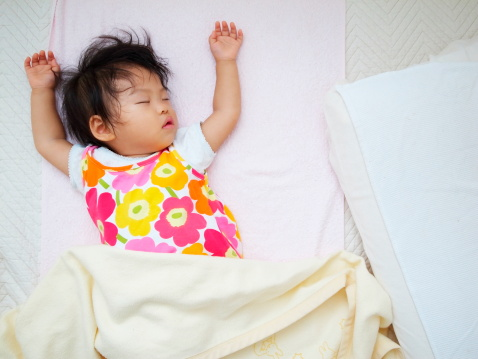deitado: (0, 10, 407, 359)
